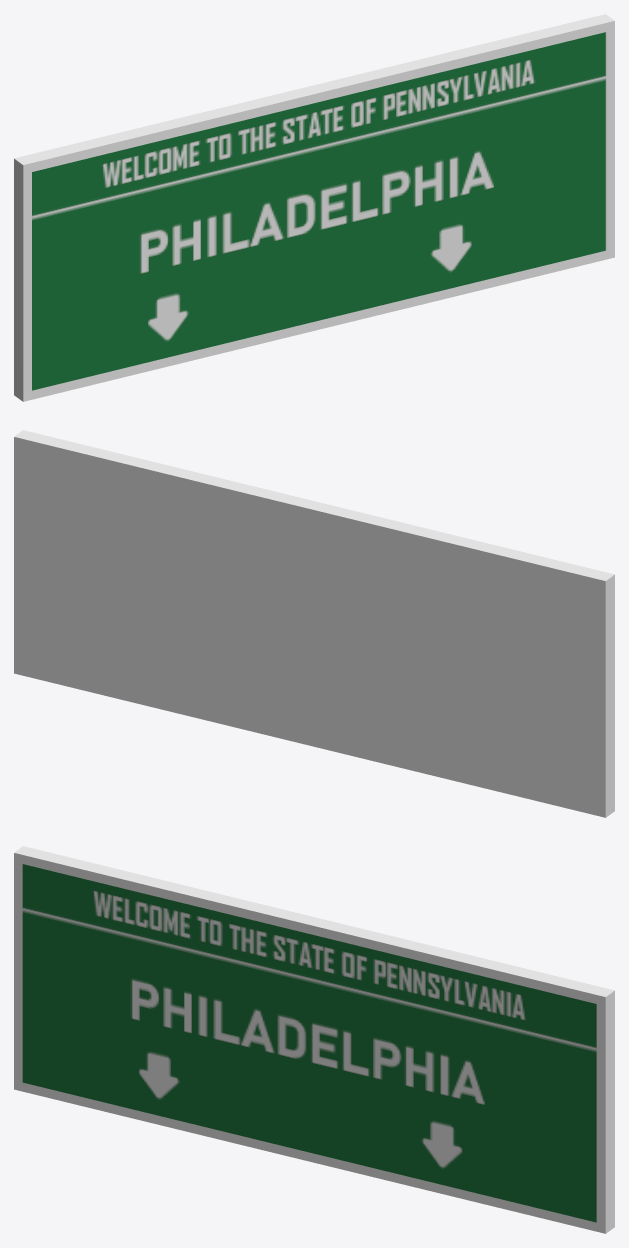
The model's file is road_signboard_03.fbx.
3 renders of one model, top to bottom at view 1: azimuth 30°, elevation 25°; view 2: azimuth 150°, elevation 25°; view 3: azimuth 330°, elevation 25°, orthographic.
Visible parts, largest first — view 1: road_signboard_03; view 2: road_signboard_03; view 3: road_signboard_03.
Boxes of the visible parts, x1=… form: road_signboard_03: x1=14, y1=14, x2=614, y2=401; road_signboard_03: x1=14, y1=430, x2=614, y2=817; road_signboard_03: x1=14, y1=846, x2=614, y2=1233.
Size of the model in its own units: 893 by 341 by 24.07.
